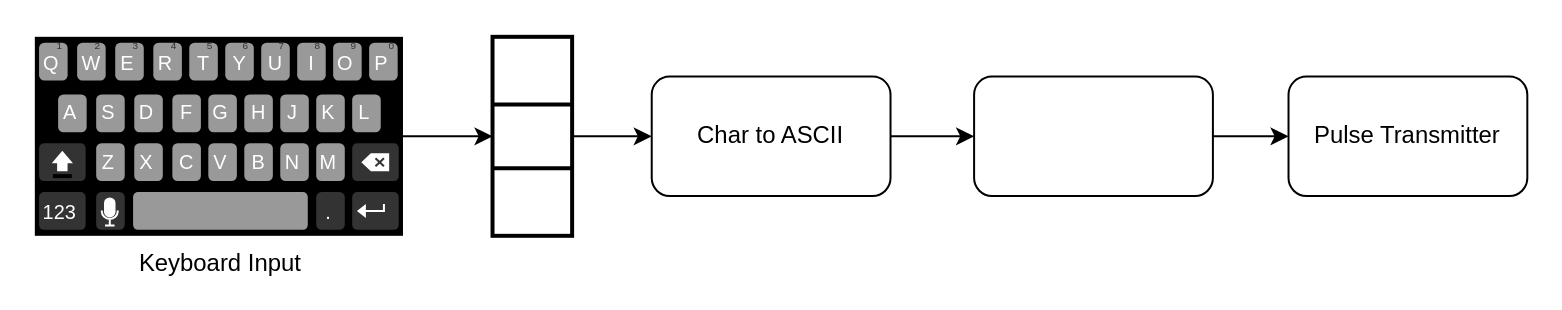
The diagram is 1562 pixels wide and 310 high, and some of its shapes have lost their labels. Here are the shapes that lost their labels. From the top down, the box of each, then its label:
(490, 34, 573, 237): Char Buffer
(972, 75, 1213, 196): Hamming Encoder
